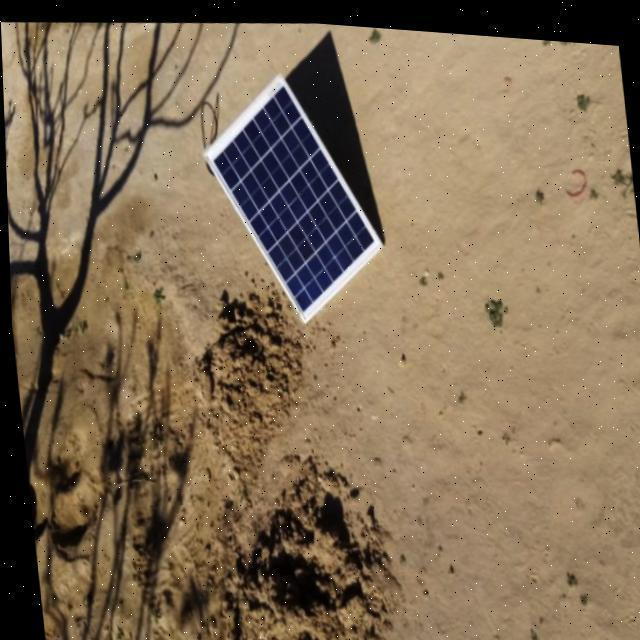Normal Solar Panel: (192, 59, 390, 328)
